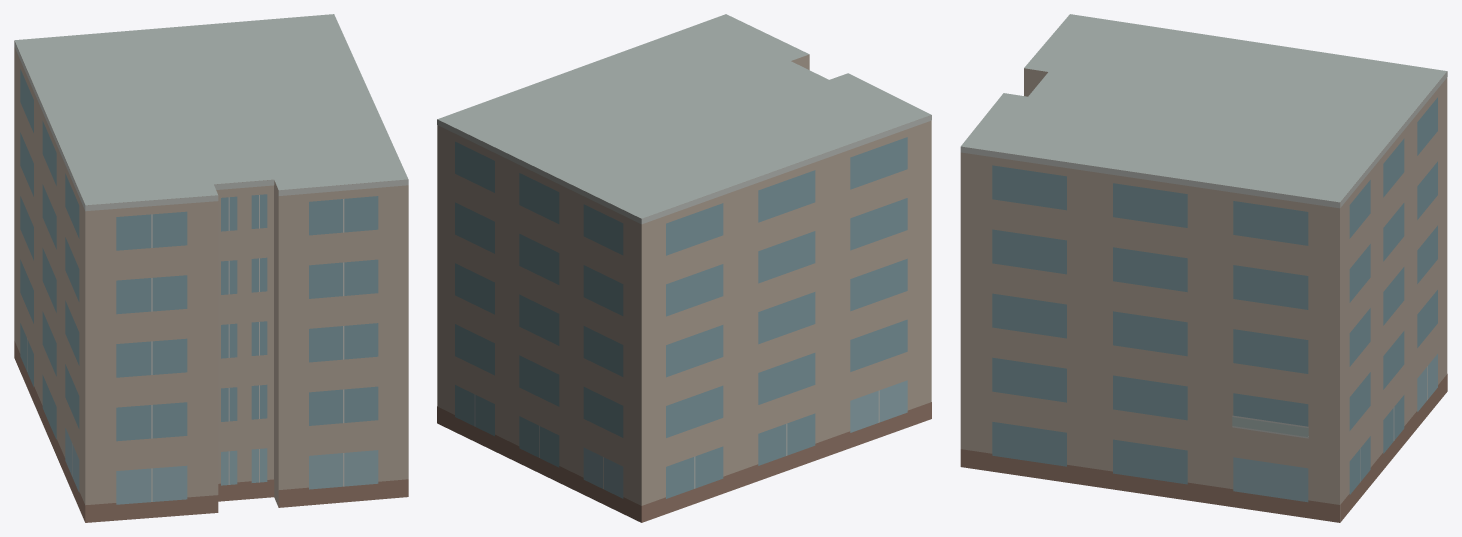
Rendered from survey-upis-32975166.glb.
3 renders of one model, left to right at view 1: azimuth 30°, elevation 25°; view 2: azimuth 150°, elevation 25°; view 3: azimuth 270°, elevation 25°, orthographic. The views are drawn at different scales.
Visible parts, largest first — view 1: survey-upis-32975166.tmp; view 2: survey-upis-32975166.tmp; view 3: survey-upis-32975166.tmp.
Part boxes in pixels (bbox=[...]): survey-upis-32975166.tmp: bbox=[14, 14, 408, 522]; survey-upis-32975166.tmp: bbox=[437, 14, 931, 522]; survey-upis-32975166.tmp: bbox=[960, 14, 1447, 522].
Size of the model in its own units: 16.59 by 13.15 by 18.11.
